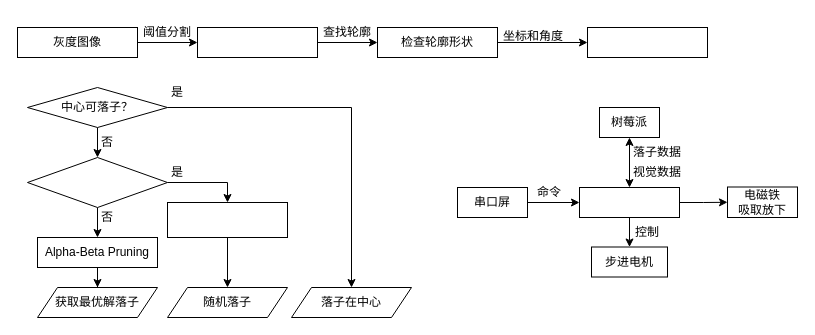
Image size: 815x335. Some labels were removed from this diagram. The centre of each missing label's shape, as x and y in pixels:
"STM32F407" goes at (629,202).
"二值化图像" goes at (257,42).
"读取 /dev/urandom 获取随机数" goes at (227,220).
"赛场中只有 一枚 人类棋子？" goes at (97,182).
"验证结果正确性" goes at (647,42).
